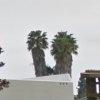Tree: (20, 21, 78, 73)
